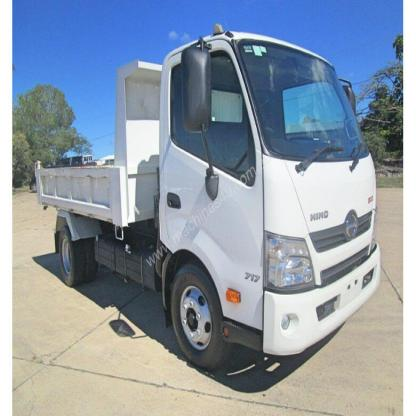dump_truck: (22, 22, 383, 378)
